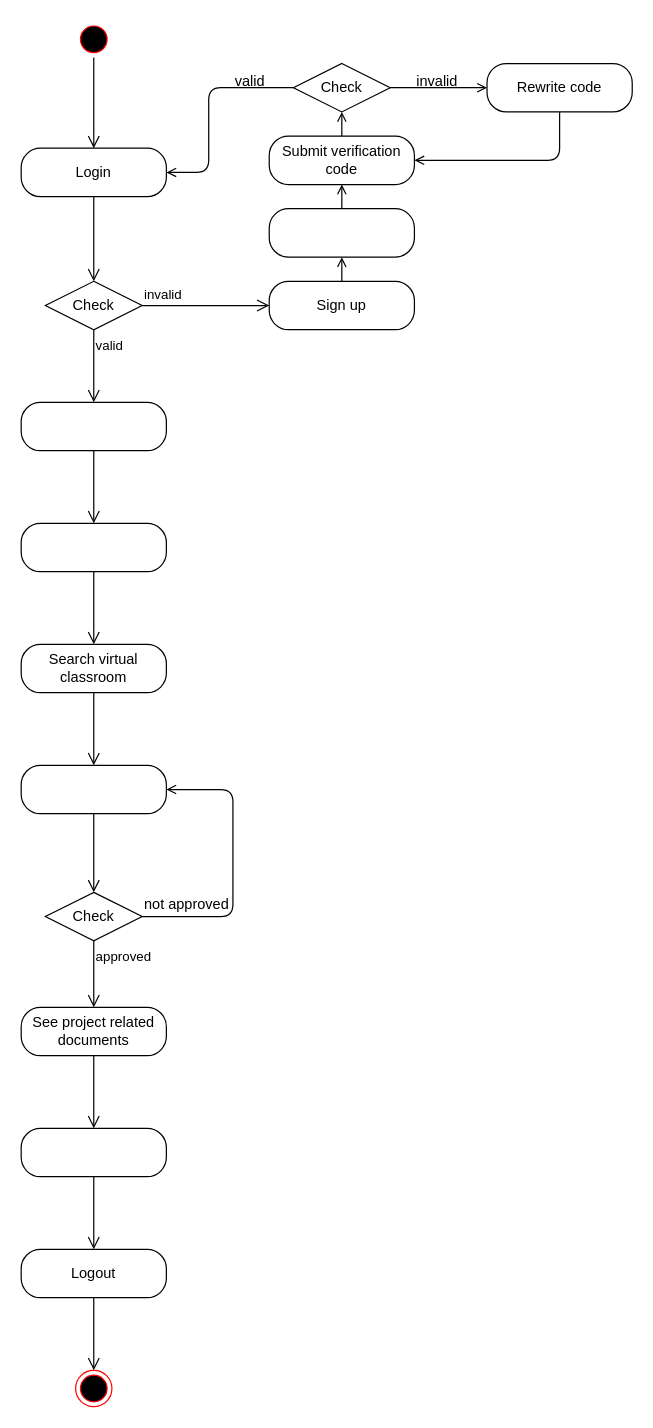
The diagram is 653 pixels wide and 1428 high, and some of its shapes have lost their labels. The centre of each missing label's shape, as x and y in pixels:
"Check email" belongs at [341,232].
"Request to join virtual classroom" belongs at [93,789].
"Respond to assignments" belongs at [93,1152].
"Search for projects" belongs at [93,547].
"See previous project list" belongs at [93,426].
